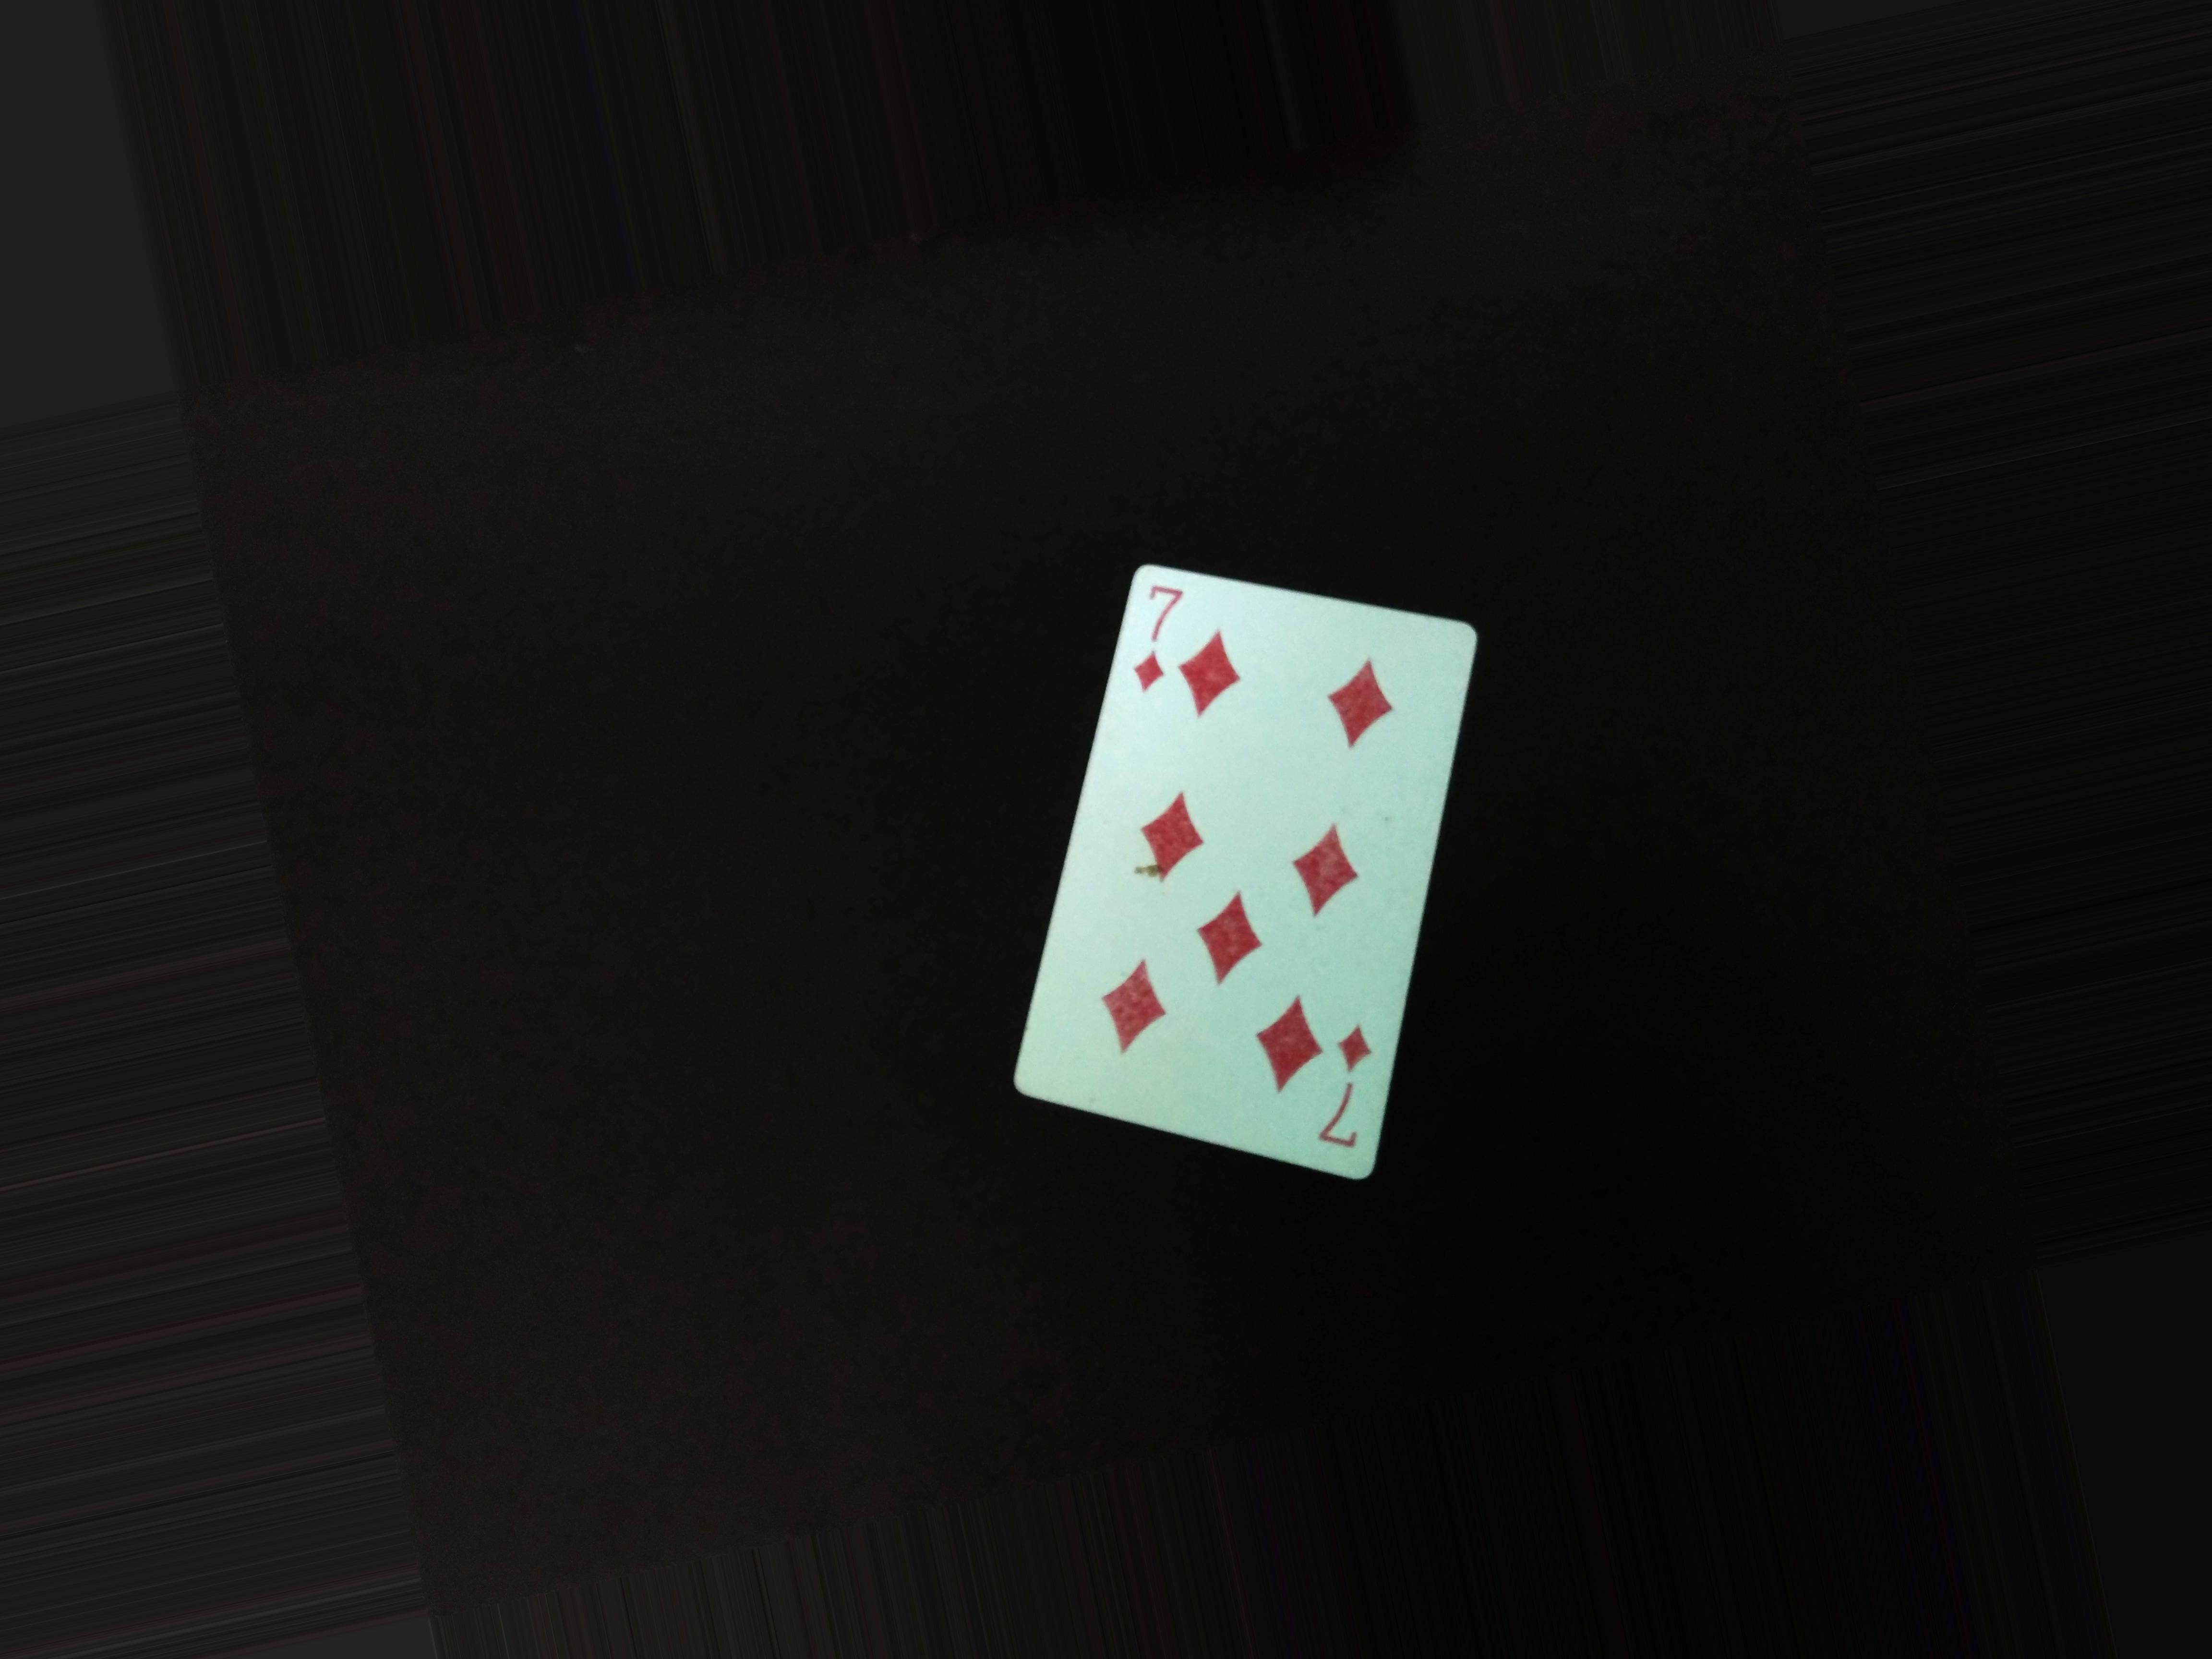7D: (1134, 572, 1186, 704)
